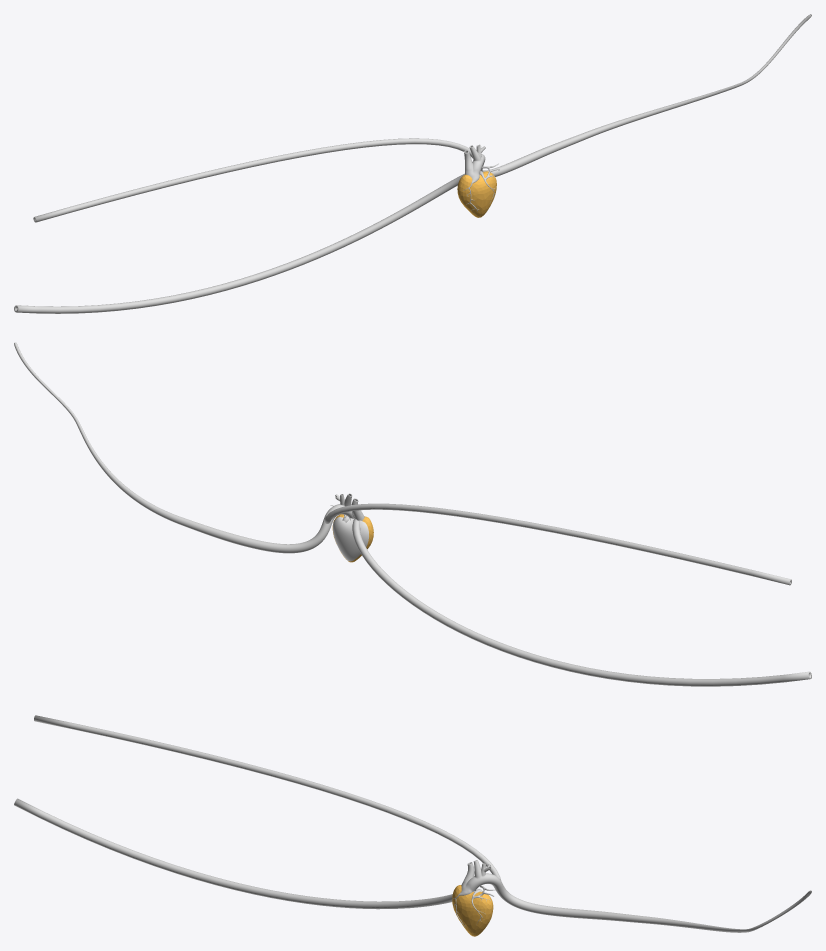
Rendered from heart.glb.
3 views of the same model, one above another, from view 1: azimuth 30°, elevation 25°; view 2: azimuth 150°, elevation 25°; view 3: azimuth 330°, elevation 25° (orthographic). The views are drawn at different scales.
Visible parts, largest first — view 1: marble, coque; view 2: marble, glass; view 3: marble, coque.
Boxes of the visible parts, x1,y1,x2,y2 form: marble: [14, 14, 811, 313]; coque: [457, 171, 496, 217]; marble: [14, 342, 811, 686]; glass: [333, 516, 368, 561]; marble: [14, 715, 811, 932]; coque: [452, 885, 493, 936].
Bounding box in the file's own units: 24.24 × 4.74 × 1.97.
